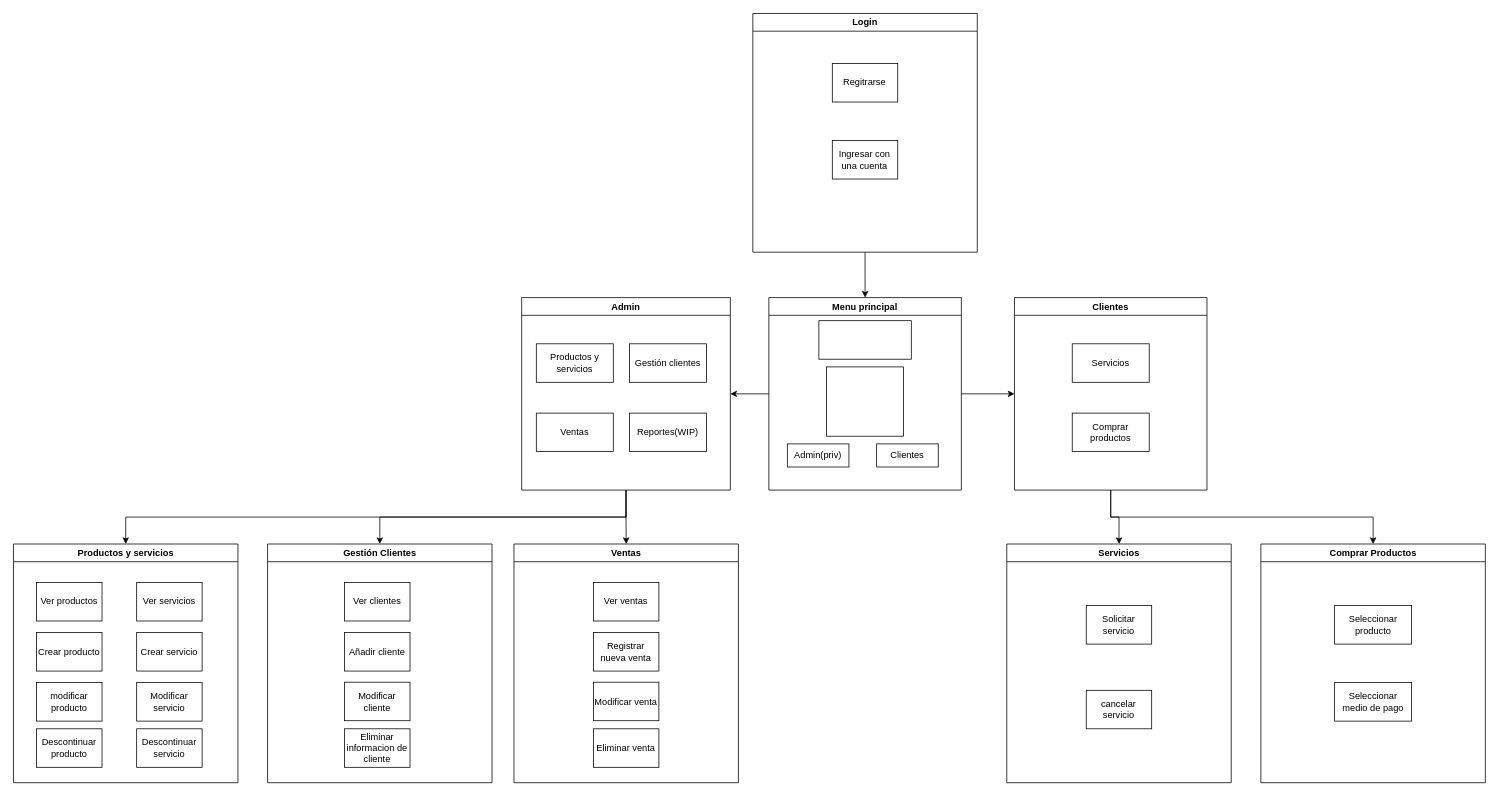
The diagram is 1499 pixels wide and 796 high, and some of its shapes have lost their labels. The centre of each missing label's shape, as x and y in pixels:
"Logo" goes at point (865, 401).
"Nombre tienda" goes at point (864, 339).
